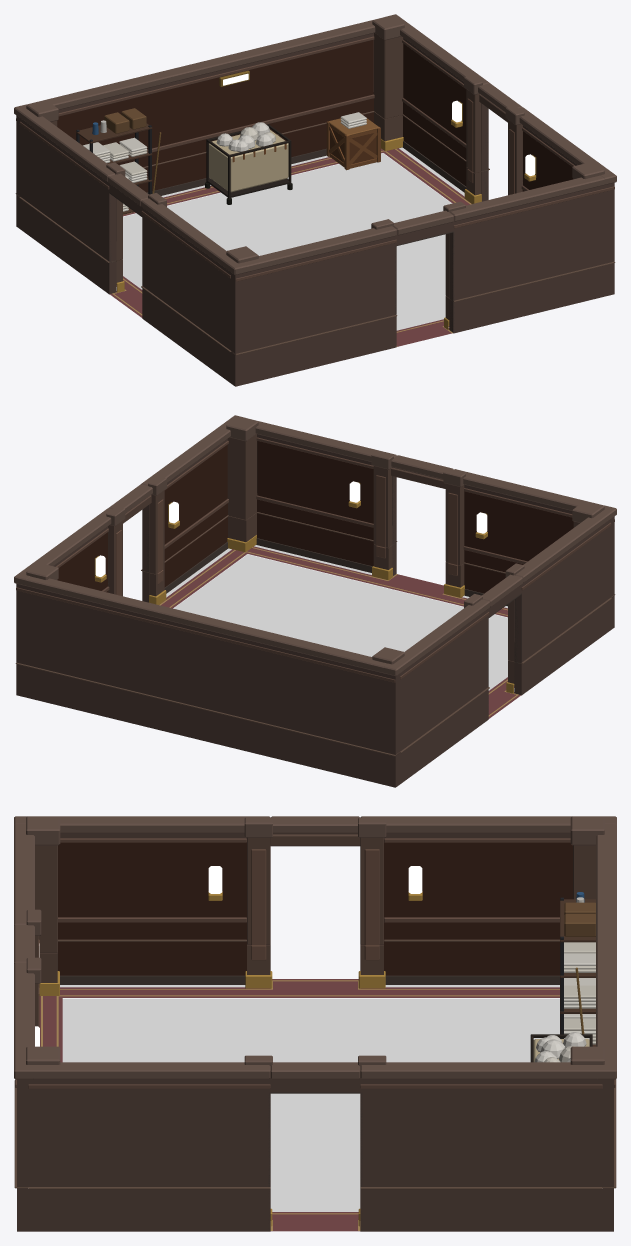
Rendered from serviceCorridor.glb.
The picture shows the model from 3 angles, top to bottom: view 1: azimuth 30°, elevation 25°; view 2: azimuth 150°, elevation 25°; view 3: azimuth 270°, elevation 25°; orthographic projection. The views are drawn at different scales.
Parts seen in each view (by area): view 1: static, W_north_0_up, floor, W_south_0_up, W_south_1_up, W_west_0_up, W_west_1_up, W_east_0_up, W_east_1_up; view 2: W_north_0_up, static, floor, W_south_1_up, W_south_0_up, W_west_0_up, W_west_1_up, W_east_1_up, W_east_0_up; view 3: floor, static, W_east_0_up, W_east_1_up, W_west_0_up, W_west_1_up, W_north_0_up, W_south_0_up, W_south_1_up.
Boxes of the visible parts, x1=… form: static: x1=15, y1=92, x2=615, y2=386; W_north_0_up: x1=14, y1=15, x2=404, y2=196; floor: x1=110, y1=147, x2=471, y2=346; W_south_0_up: x1=226, y1=210, x2=453, y2=353; W_south_1_up: x1=443, y1=162, x2=616, y2=300; W_west_0_up: x1=14, y1=104, x2=148, y2=262; W_west_1_up: x1=141, y1=193, x2=246, y2=350; W_east_0_up: x1=385, y1=14, x2=522, y2=173; W_east_1_up: x1=505, y1=105, x2=616, y2=195; W_north_0_up: x1=14, y1=563, x2=404, y2=754; static: x1=15, y1=493, x2=615, y2=787; floor: x1=159, y1=545, x2=520, y2=718; W_south_1_up: x1=226, y1=416, x2=396, y2=547; W_south_0_up: x1=391, y1=455, x2=616, y2=597; W_west_0_up: x1=384, y1=574, x2=522, y2=751; W_west_1_up: x1=505, y1=505, x2=616, y2=662; W_east_1_up: x1=141, y1=415, x2=245, y2=574; W_east_0_up: x1=14, y1=484, x2=152, y2=596; floor: x1=39, y1=979, x2=559, y2=1231; static: x1=14, y1=892, x2=616, y2=1231; W_east_0_up: x1=270, y1=1055, x2=616, y2=1186; W_east_1_up: x1=14, y1=1055, x2=272, y2=1186; W_west_0_up: x1=270, y1=816, x2=616, y2=945; W_west_1_up: x1=14, y1=816, x2=272, y2=945; W_north_0_up: x1=570, y1=816, x2=616, y2=1186; W_south_0_up: x1=14, y1=816, x2=60, y2=987; W_south_1_up: x1=14, y1=957, x2=60, y2=1186.
Size of the model in its own units: 8.08 by 2.48 by 8.08.
